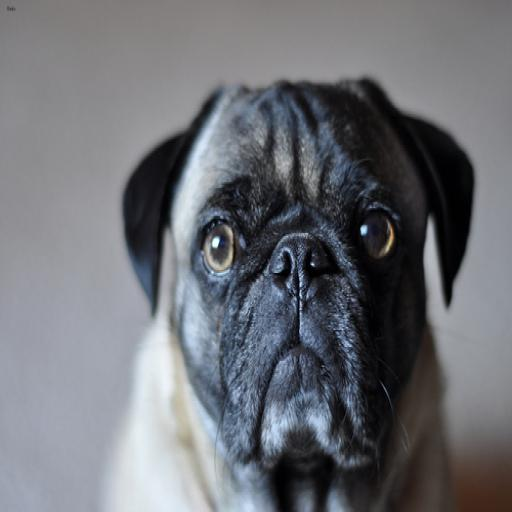dog_face: (120, 67, 466, 476)
